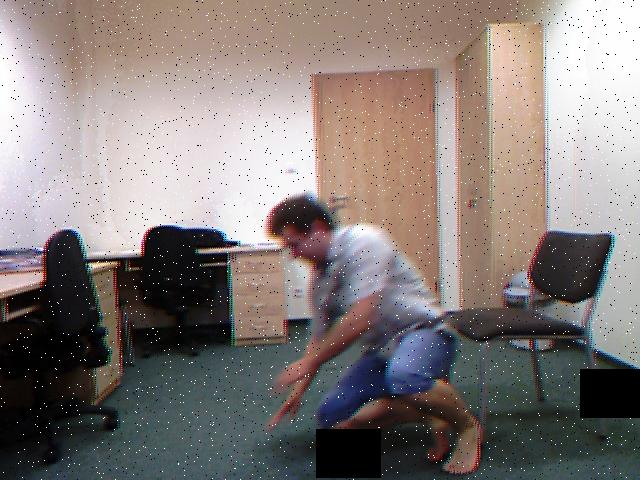fall: (247, 178, 490, 480)
